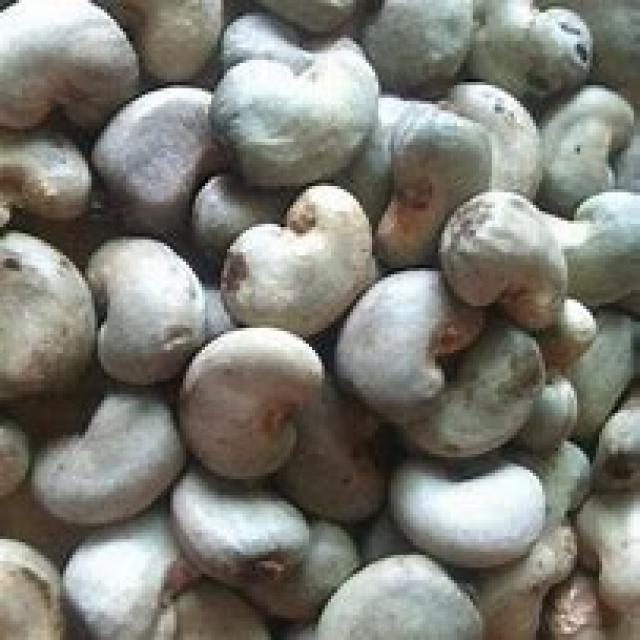Cashew: (191, 60, 385, 164), (216, 203, 370, 324), (184, 317, 300, 477), (4, 0, 150, 116), (348, 269, 462, 417), (164, 484, 336, 582), (94, 229, 191, 377), (386, 127, 497, 255), (108, 88, 200, 234), (364, 0, 475, 106), (411, 452, 544, 534), (470, 209, 549, 319), (561, 210, 640, 316)
